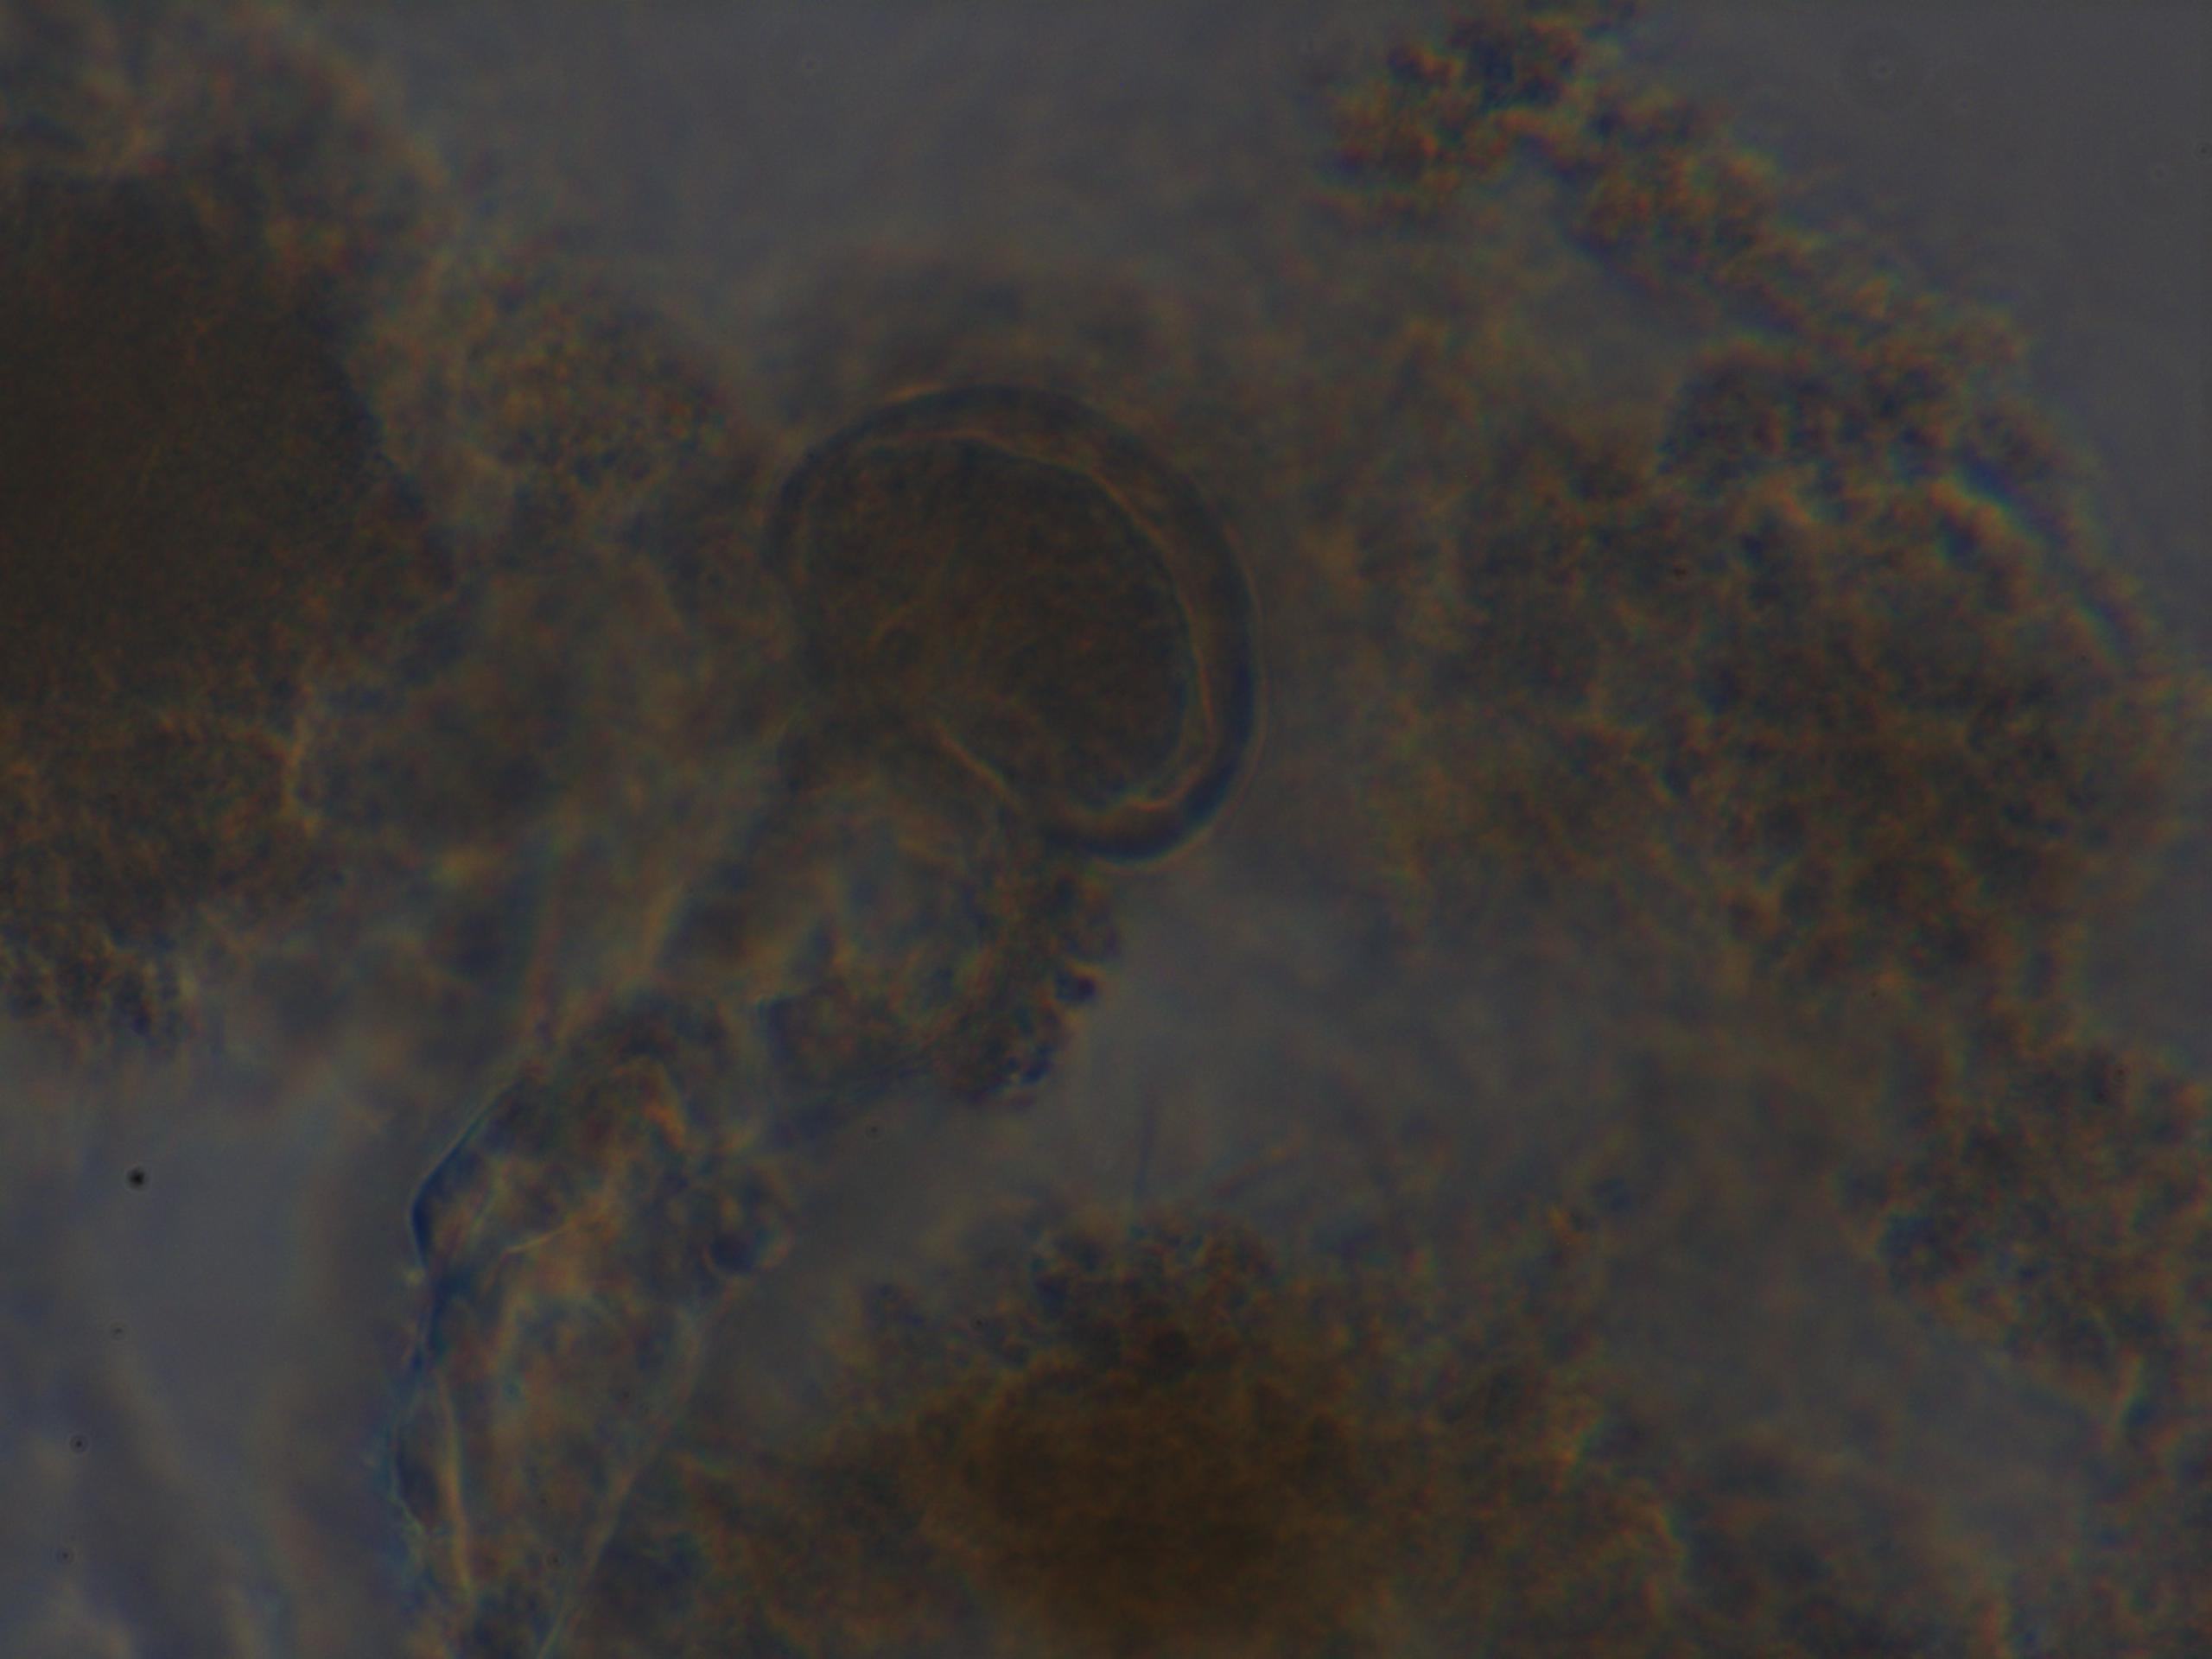protozoa: (723, 373, 1308, 870)
